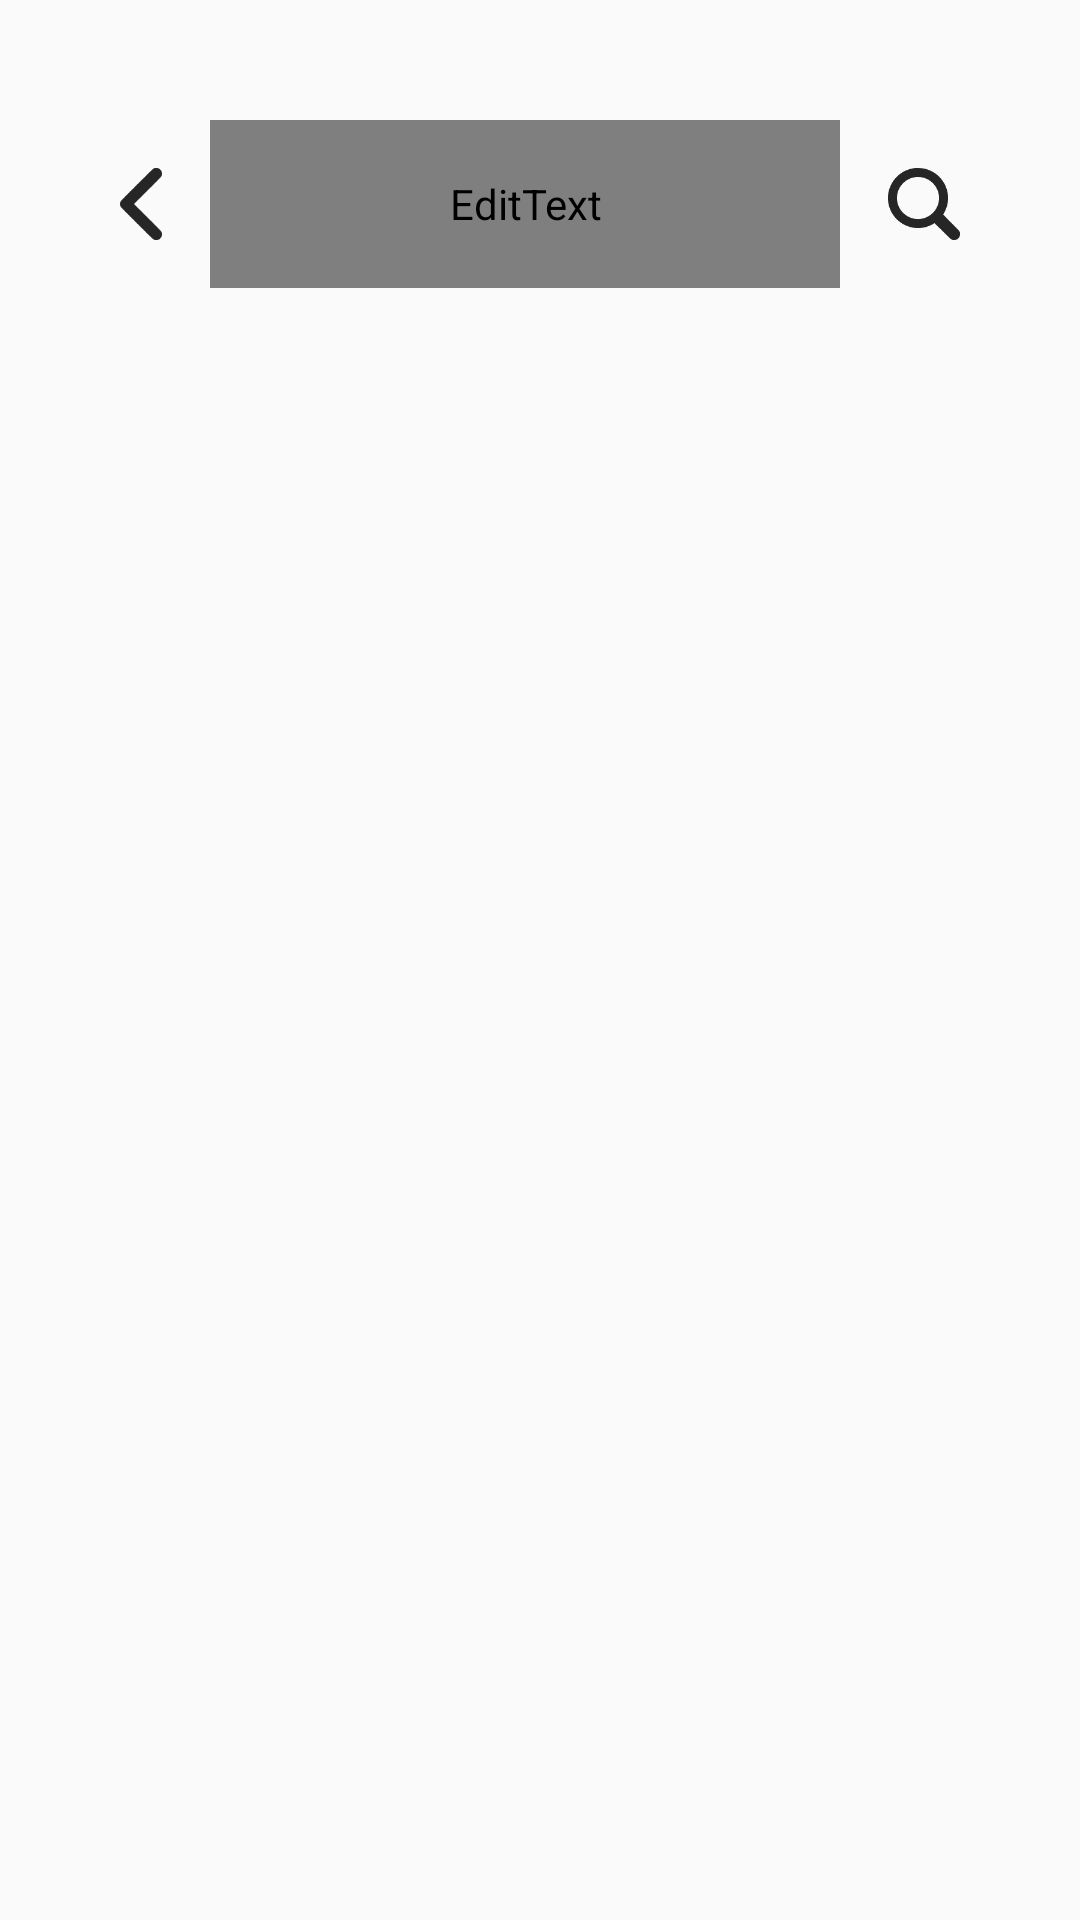

Icon click points for this 1080px×1920px phone screenshot, format (x,y):
beforebtn: (141,204)
